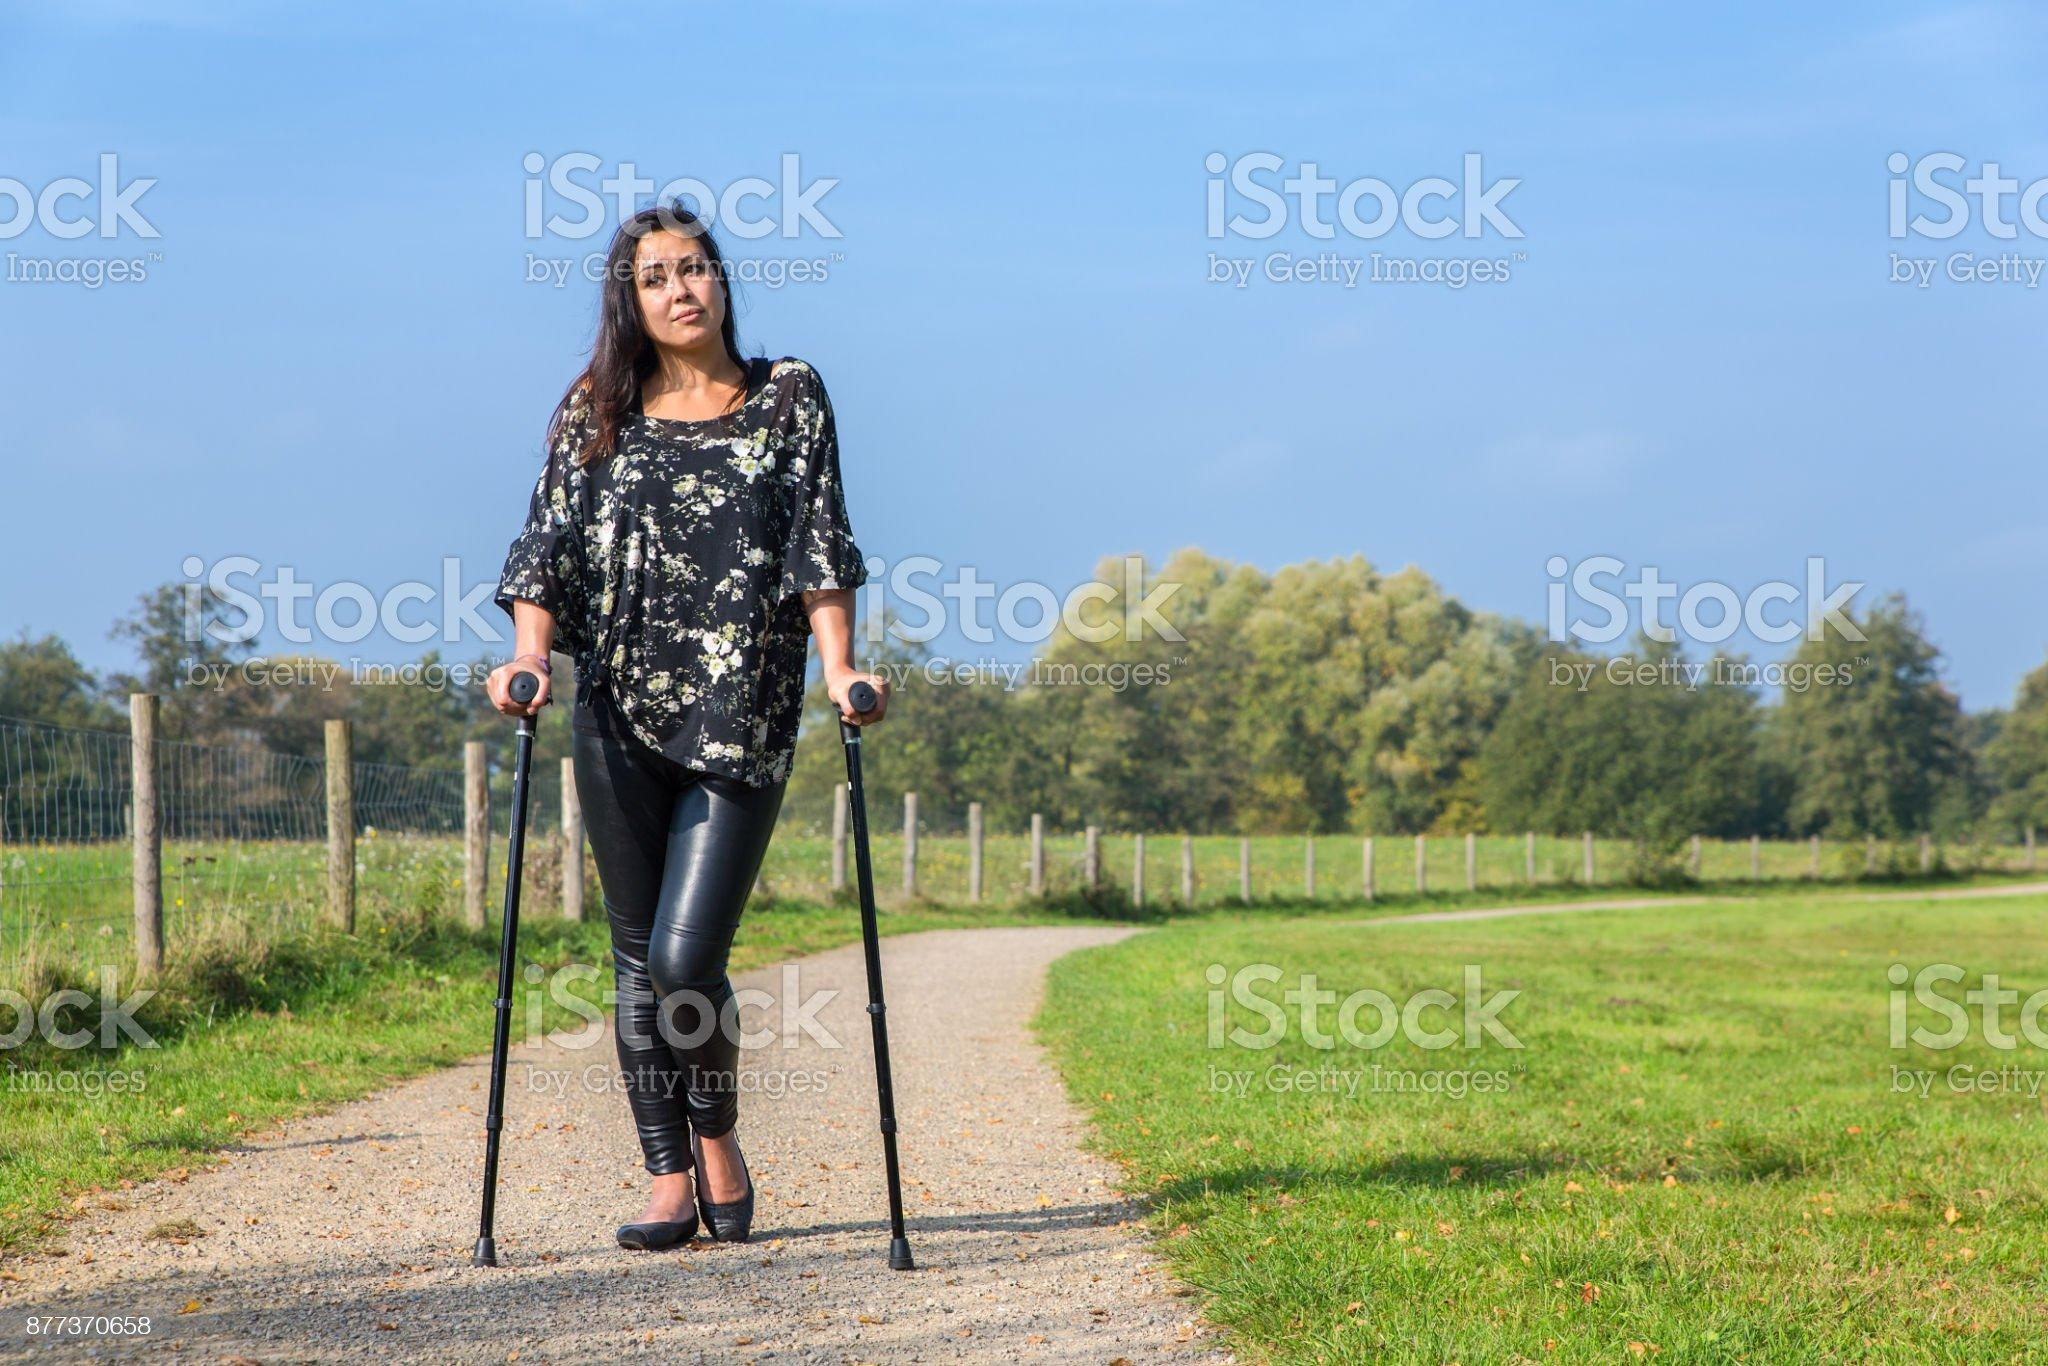crutches: (471, 206, 914, 1270)
